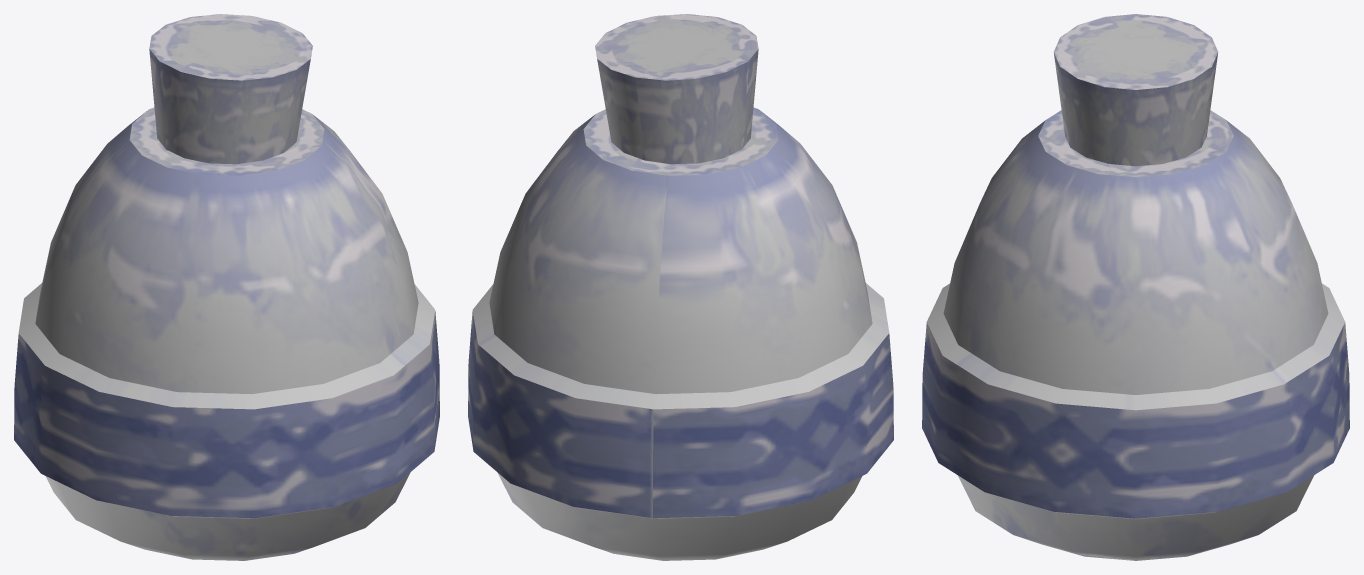
Rendered from Potion_1.gltf.
3 renders of one model, left to right at view 1: azimuth 30°, elevation 25°; view 2: azimuth 150°, elevation 25°; view 3: azimuth 270°, elevation 25°, orthographic.
Parts seen in each view (by area): view 1: Potion_1; view 2: Potion_1; view 3: Potion_1.
Boxes of the visible parts, box(x1,y1,x2,y2) form: Potion_1: box(14, 14, 439, 560); Potion_1: box(468, 14, 893, 560); Potion_1: box(922, 14, 1349, 560).
Size of the model in its own units: 0.1139 by 0.1404 by 0.1139.
1 material, 1 textured.
